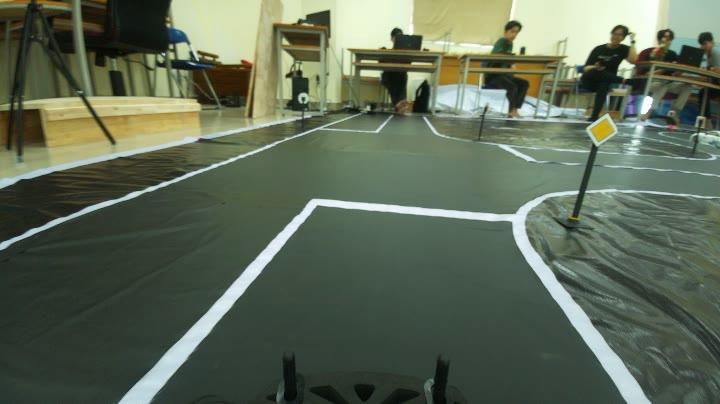priority: (582, 108, 620, 150)
